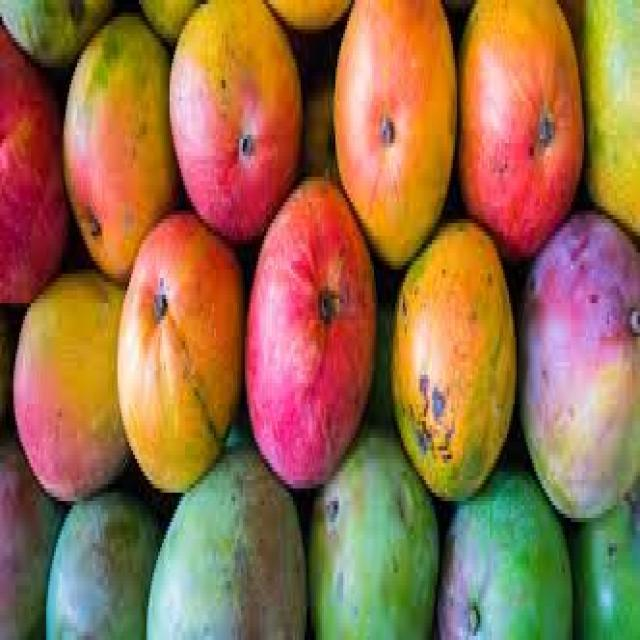Mango: (244, 175, 376, 490), (516, 209, 636, 522), (453, 0, 584, 257), (60, 15, 183, 286), (163, 2, 303, 240), (119, 207, 240, 482), (389, 220, 511, 482), (332, 0, 453, 249), (151, 455, 307, 640), (310, 432, 442, 640), (14, 277, 128, 499), (436, 464, 570, 634), (0, 24, 62, 300), (566, 1, 640, 229), (43, 497, 156, 637), (2, 432, 54, 639), (572, 499, 640, 640)
